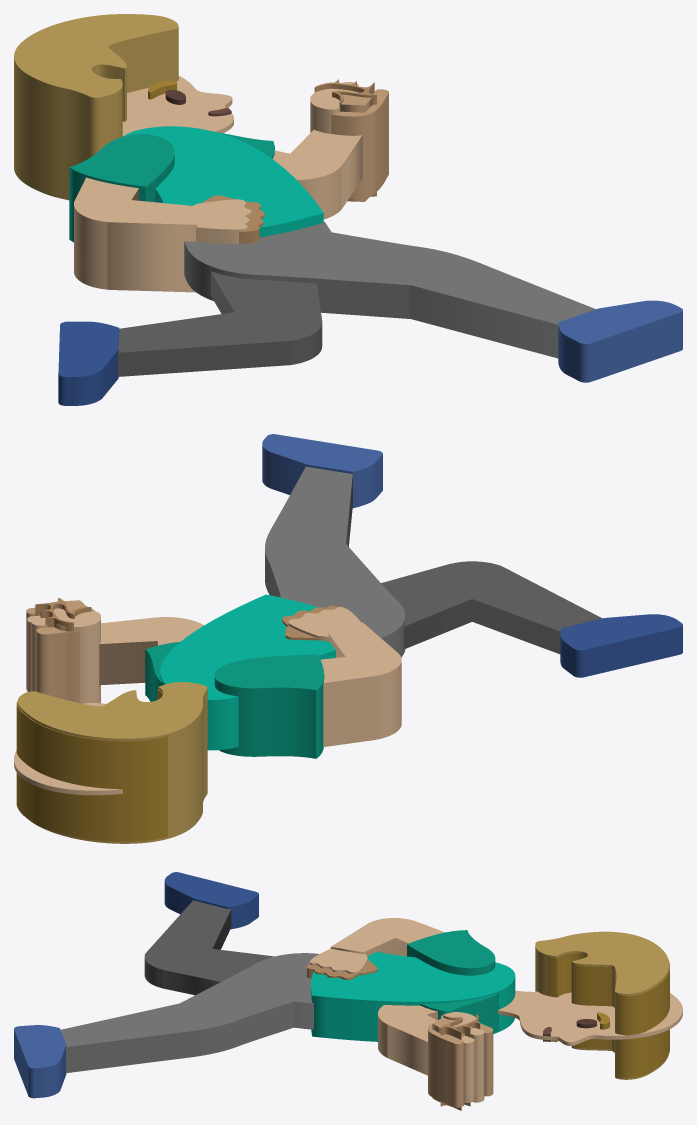
File: emoji_u1f3c3_1f3fc_200d_2642_200d_27a1.glb
3 renders of one model, top to bottom at view 1: azimuth 30°, elevation 25°; view 2: azimuth 150°, elevation 25°; view 3: azimuth 270°, elevation 25°, orthographic. The views are drawn at different scales.
Visible parts, largest first — view 1: emoji_u1f3c3_1f3fc_200d_2642_200d_27a1; view 2: emoji_u1f3c3_1f3fc_200d_2642_200d_27a1; view 3: emoji_u1f3c3_1f3fc_200d_2642_200d_27a1.
Part boxes in pixels (left/top/right/bottom): emoji_u1f3c3_1f3fc_200d_2642_200d_27a1: left=14, top=14, right=682, bottom=405; emoji_u1f3c3_1f3fc_200d_2642_200d_27a1: left=14, top=434, right=682, bottom=843; emoji_u1f3c3_1f3fc_200d_2642_200d_27a1: left=14, top=872, right=682, bottom=1110.
Size of the model in its own units: 0.023 by 0.0046 by 0.0325.
